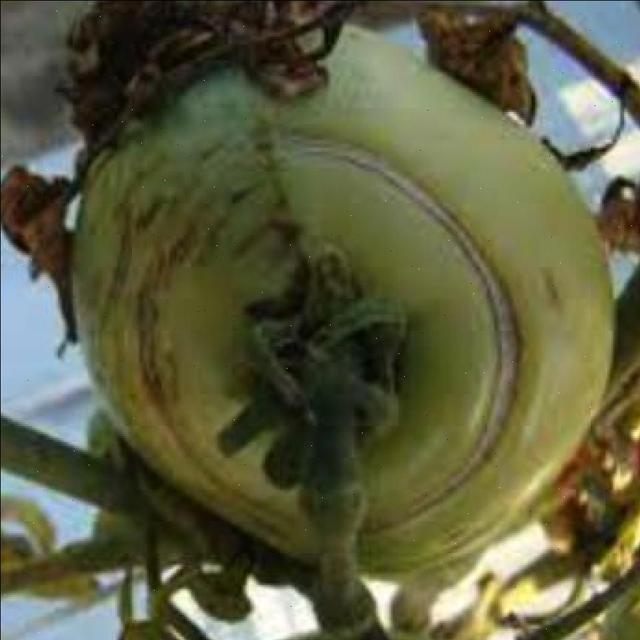Cracking Fruit: (123, 222, 248, 292)
